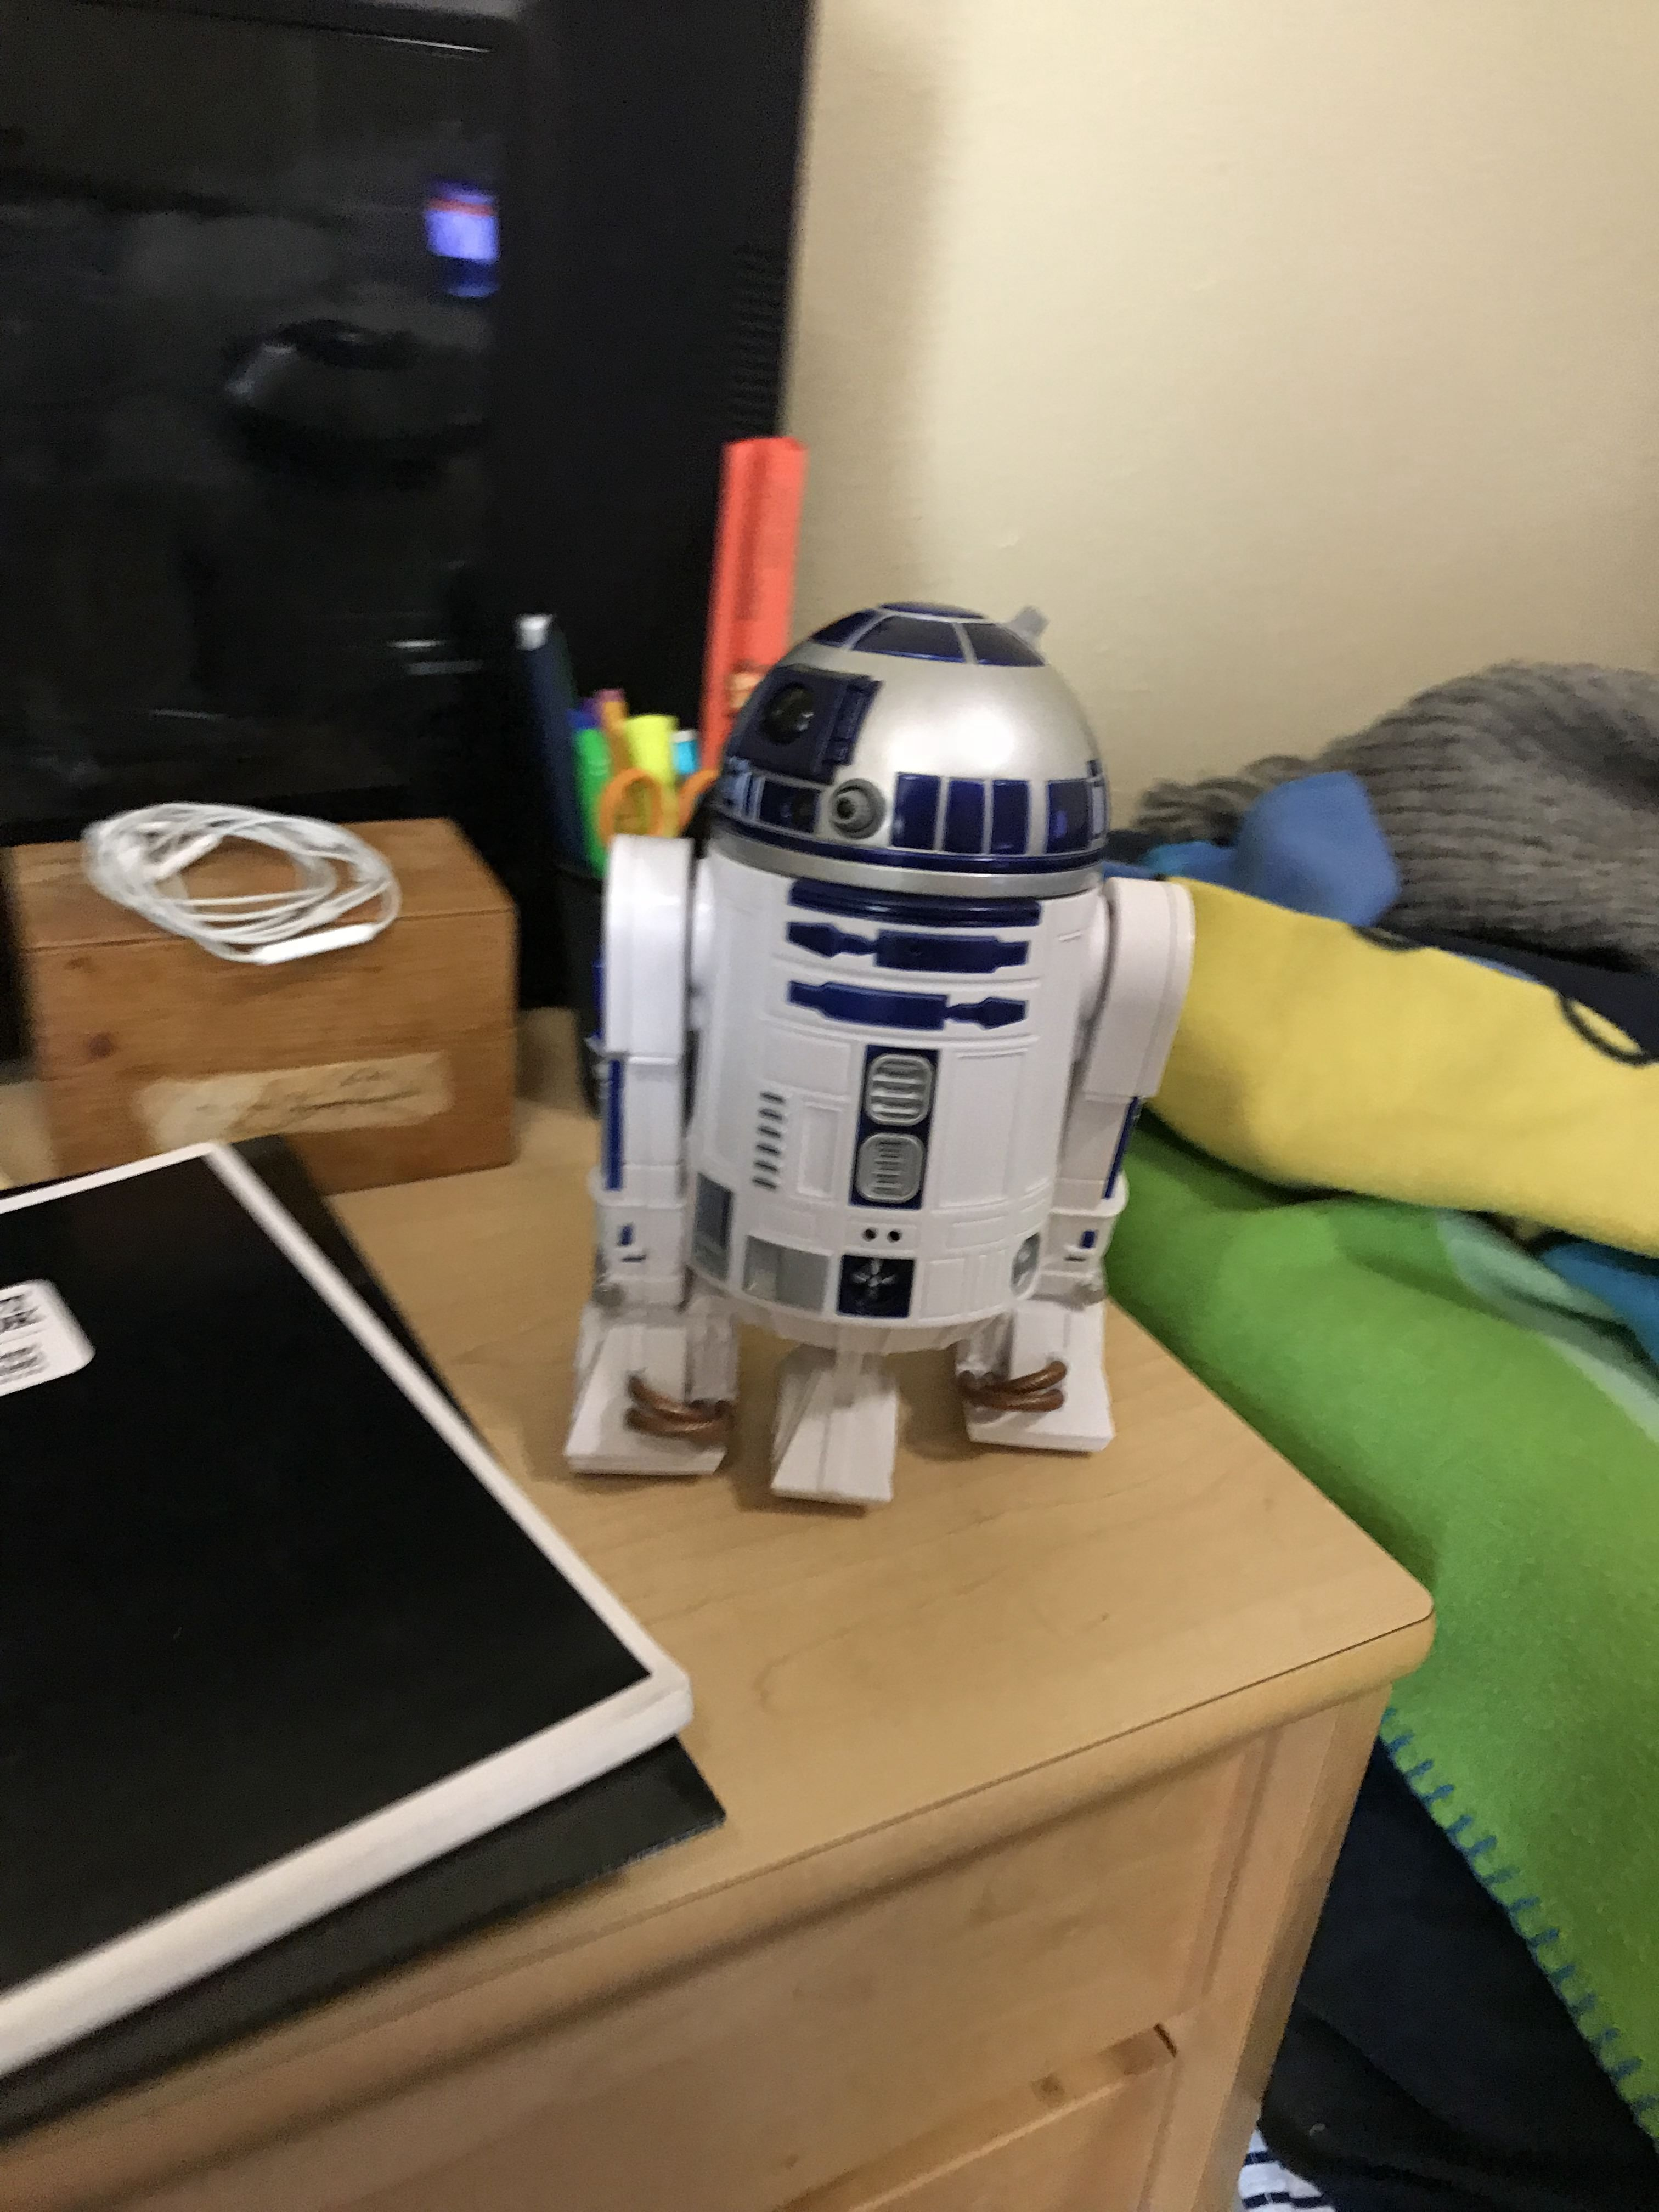r2d2: (556, 594, 1195, 1505)
